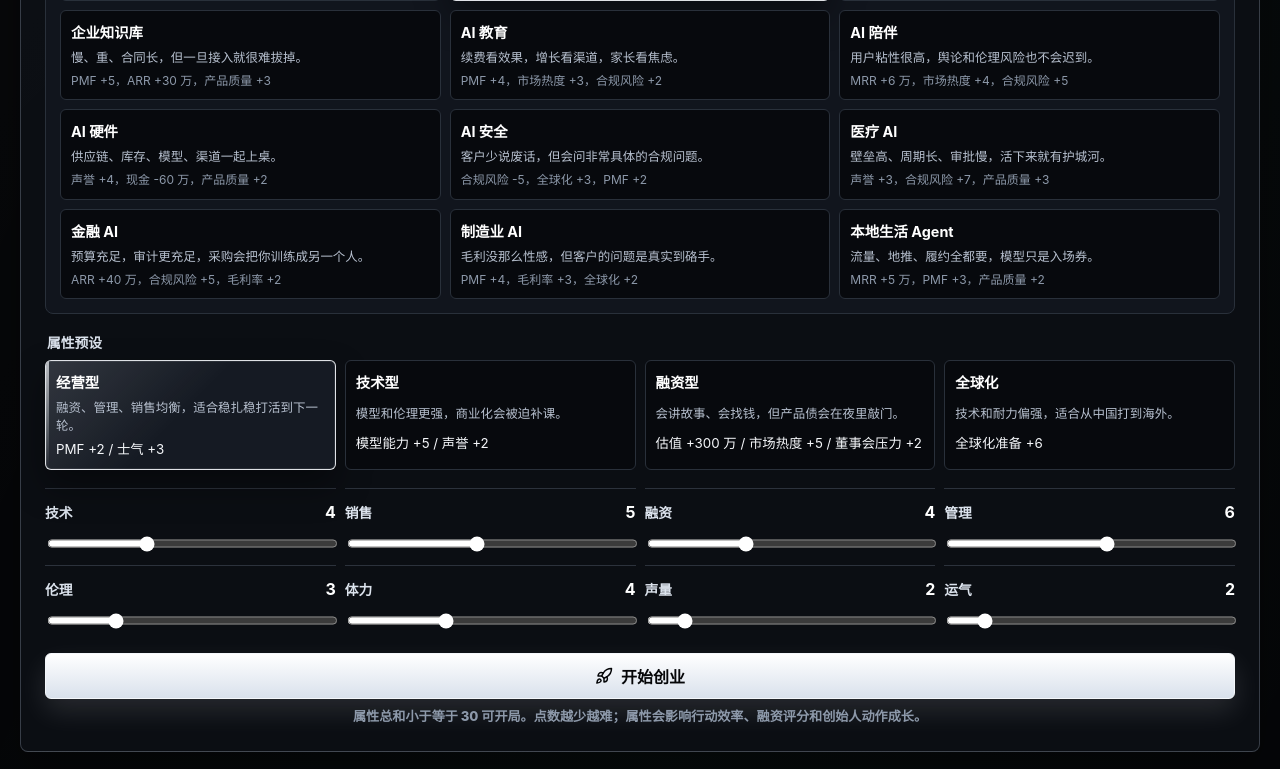
Scenario: App › shows action trends and paid extra action controls after game start
(page scrolled)
Click the button "开始创业" at (640,676), box [45,654,1235,700]
(page scrolled)
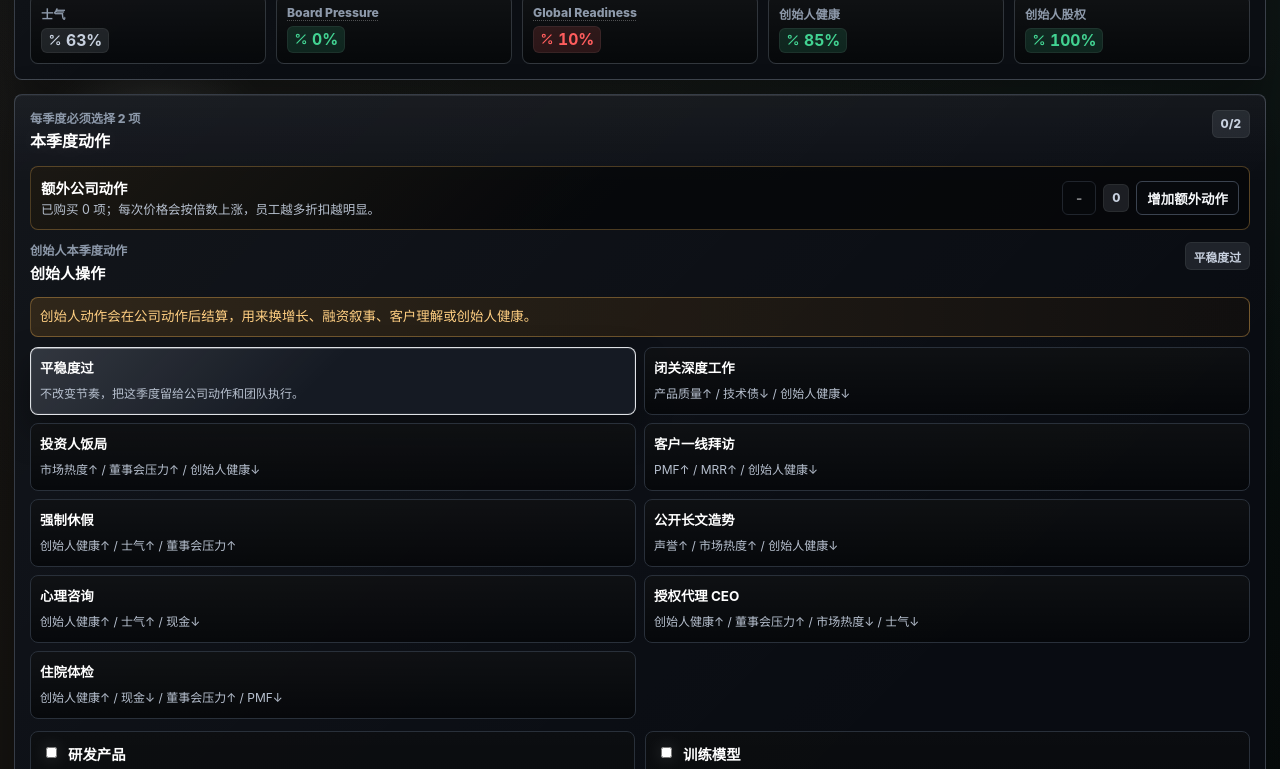
Expected: the button "增加额外动作" is shown, [1136,181,1239,215]
Expected: the text "创始人动作会在公司动作后结算，用来换增长、融资叙事、客户理解或创始人健康。" is shown, [30,297,1250,337]
Expected: the text "创始人健康↑ / 士气↑ / 董事会压力↑" is shown, [40,538,236,553]
